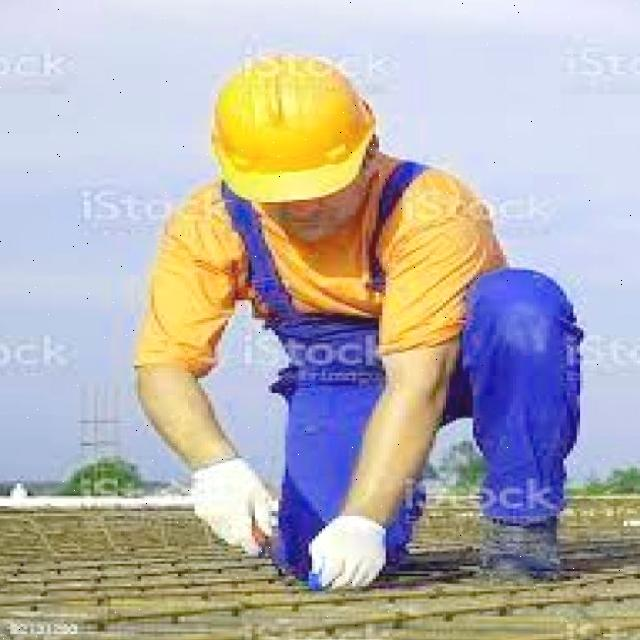Gloves: (191, 459, 278, 555), (311, 516, 386, 588)
Hardhat: (212, 54, 375, 202)
No Overall Suit: (138, 158, 581, 575)
